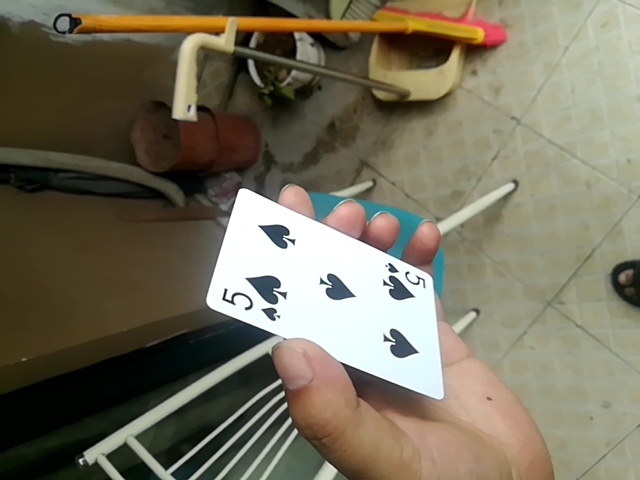ht 5: (202, 185, 433, 405)
